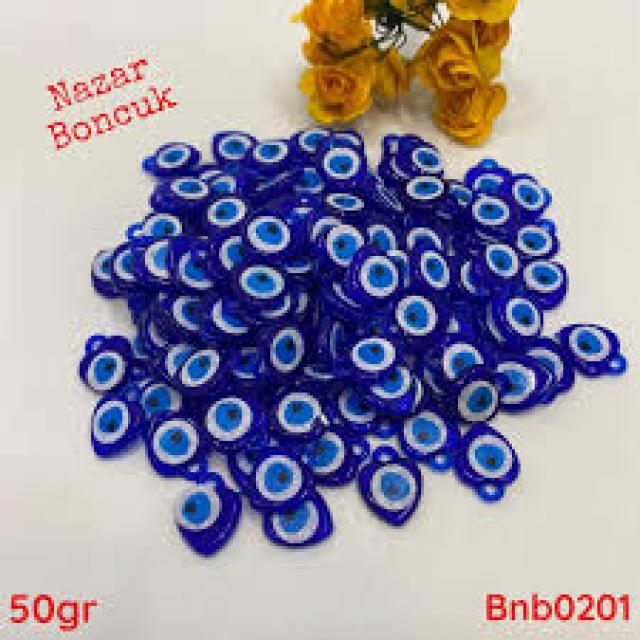Nazar-Boncugu: (175, 477, 241, 557), (462, 426, 522, 504)
